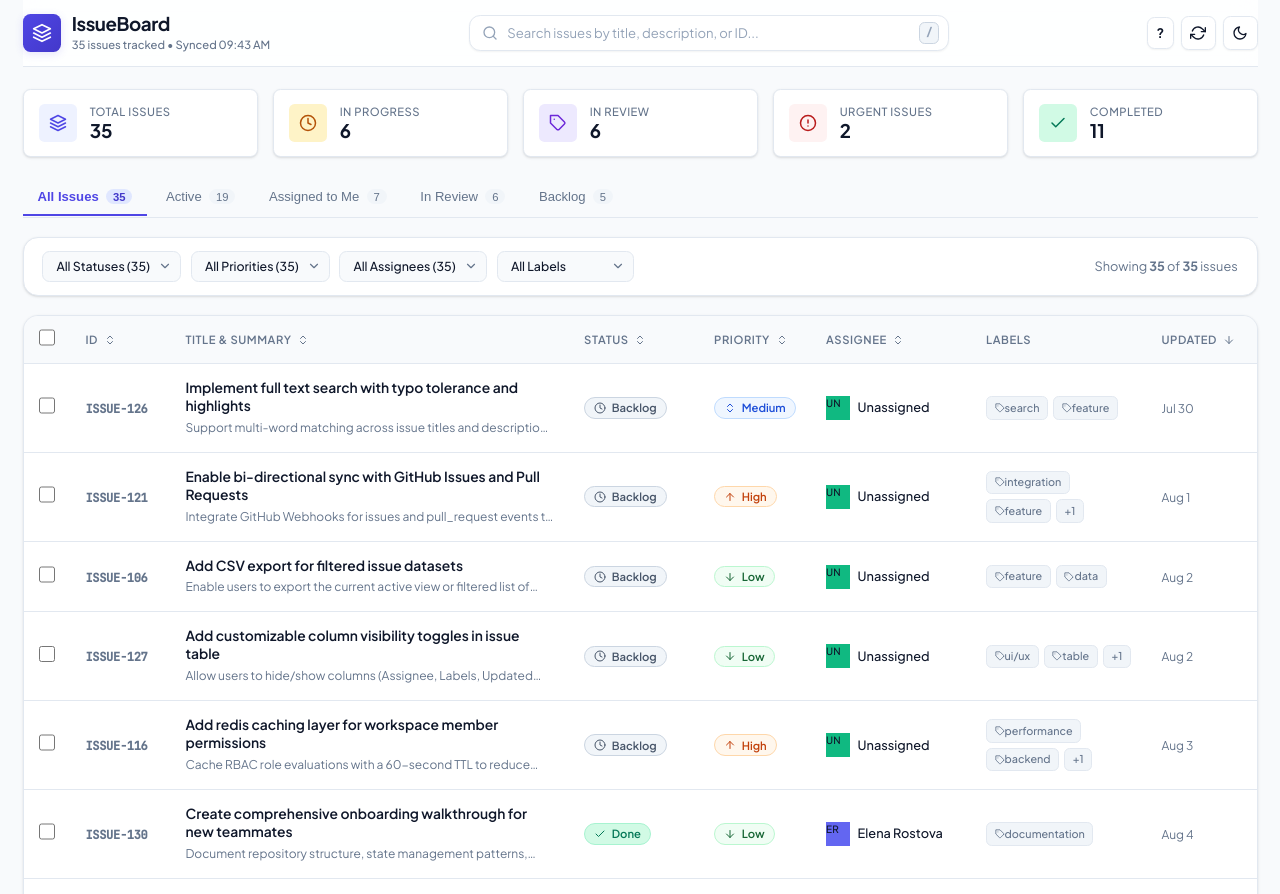
Test: Issue Filters and Search › shows empty state when no issues match filter query and allows reset
The image size is (1280, 894).
Type "NonExistentSearchTerm123456" into the field labelled "Search issues by title, description, or ID..." at point(709, 33), box [469,15,949,51]
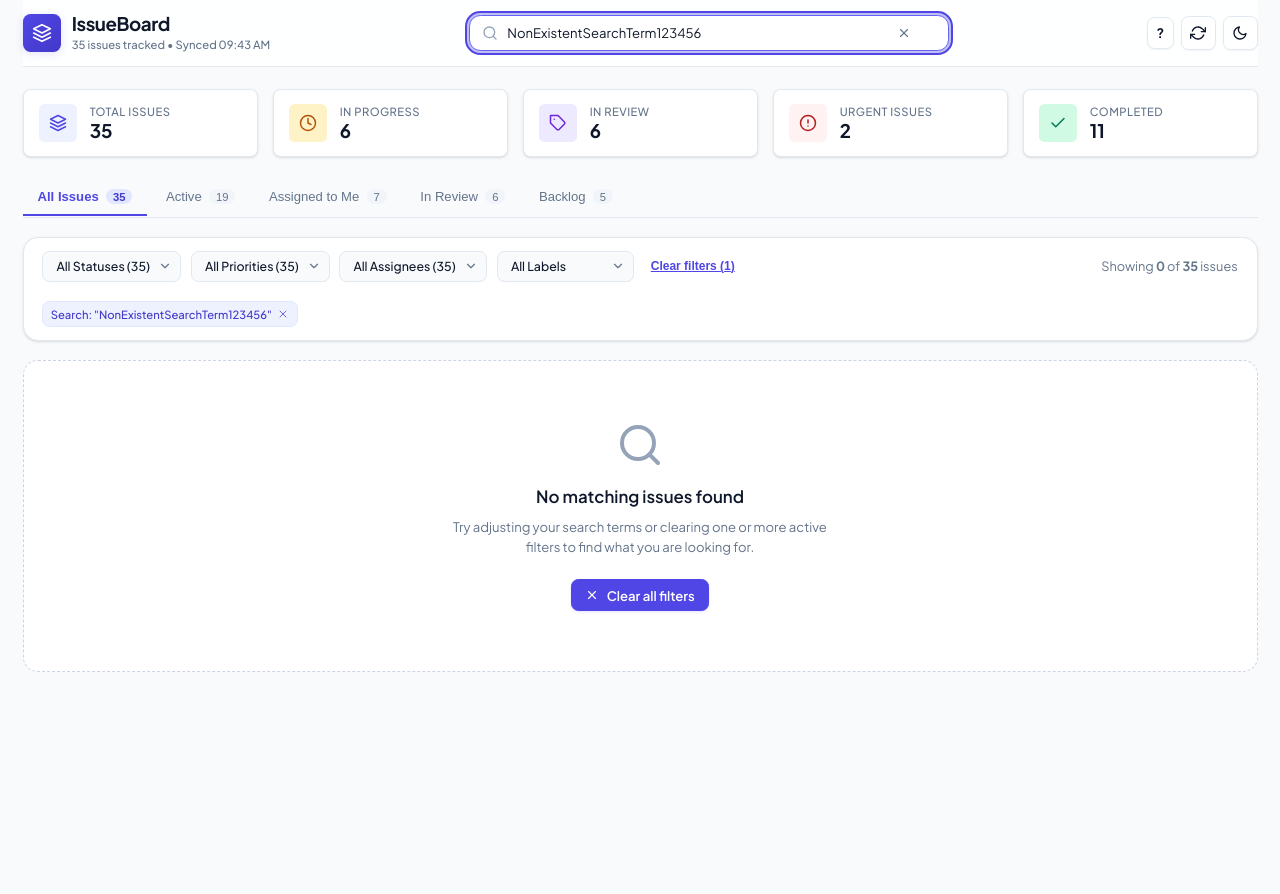
Check: the message named "No issues found" is shown, box [22,360,1258,672]
Check: the heading "No matching issues found" is shown, box [536,484,744,509]
Click the button "Clear all filters" at point(640, 595), box [571,579,709,611]
(page scrolled)
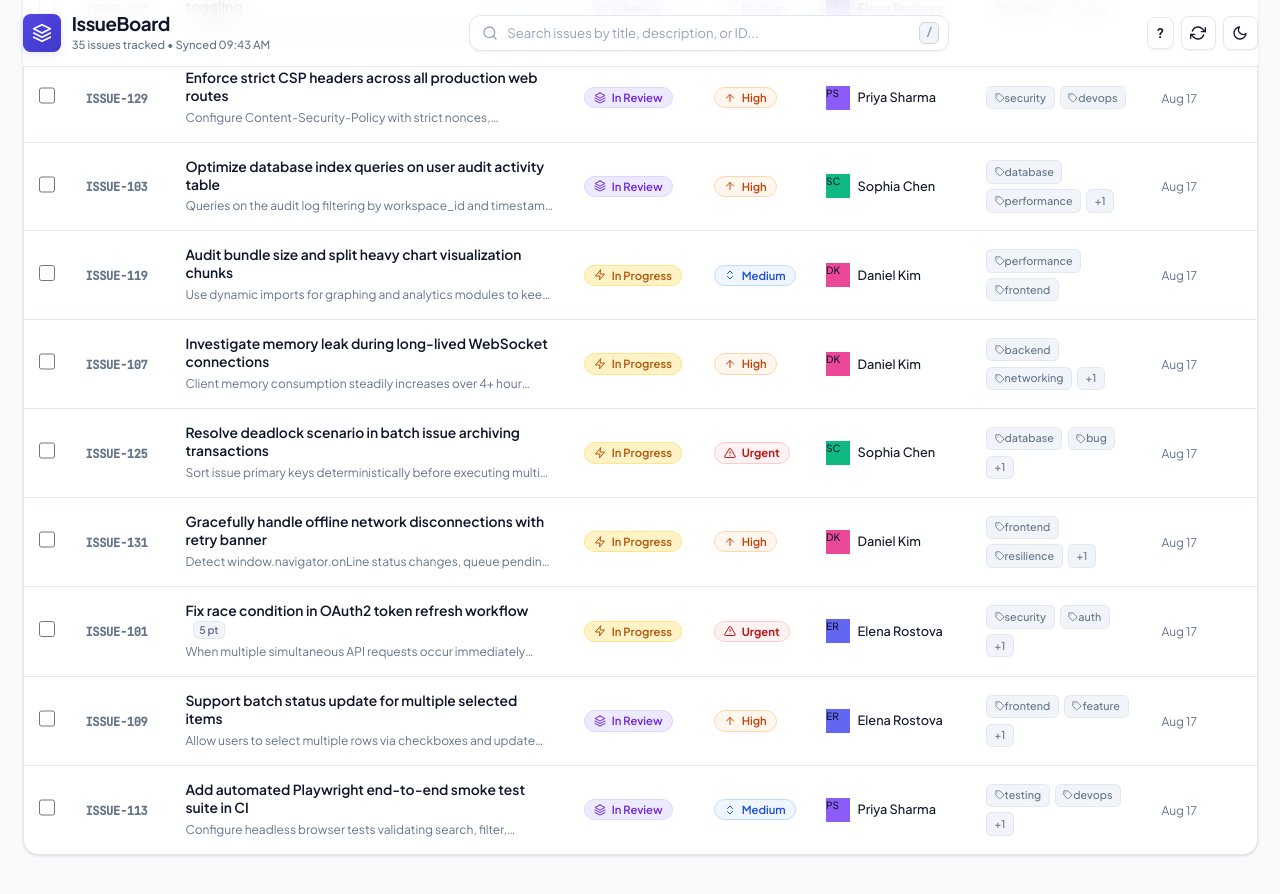
Check: the text "Fix race condition in OAuth2 token refresh workflow" is shown, box [185,602,528,619]
